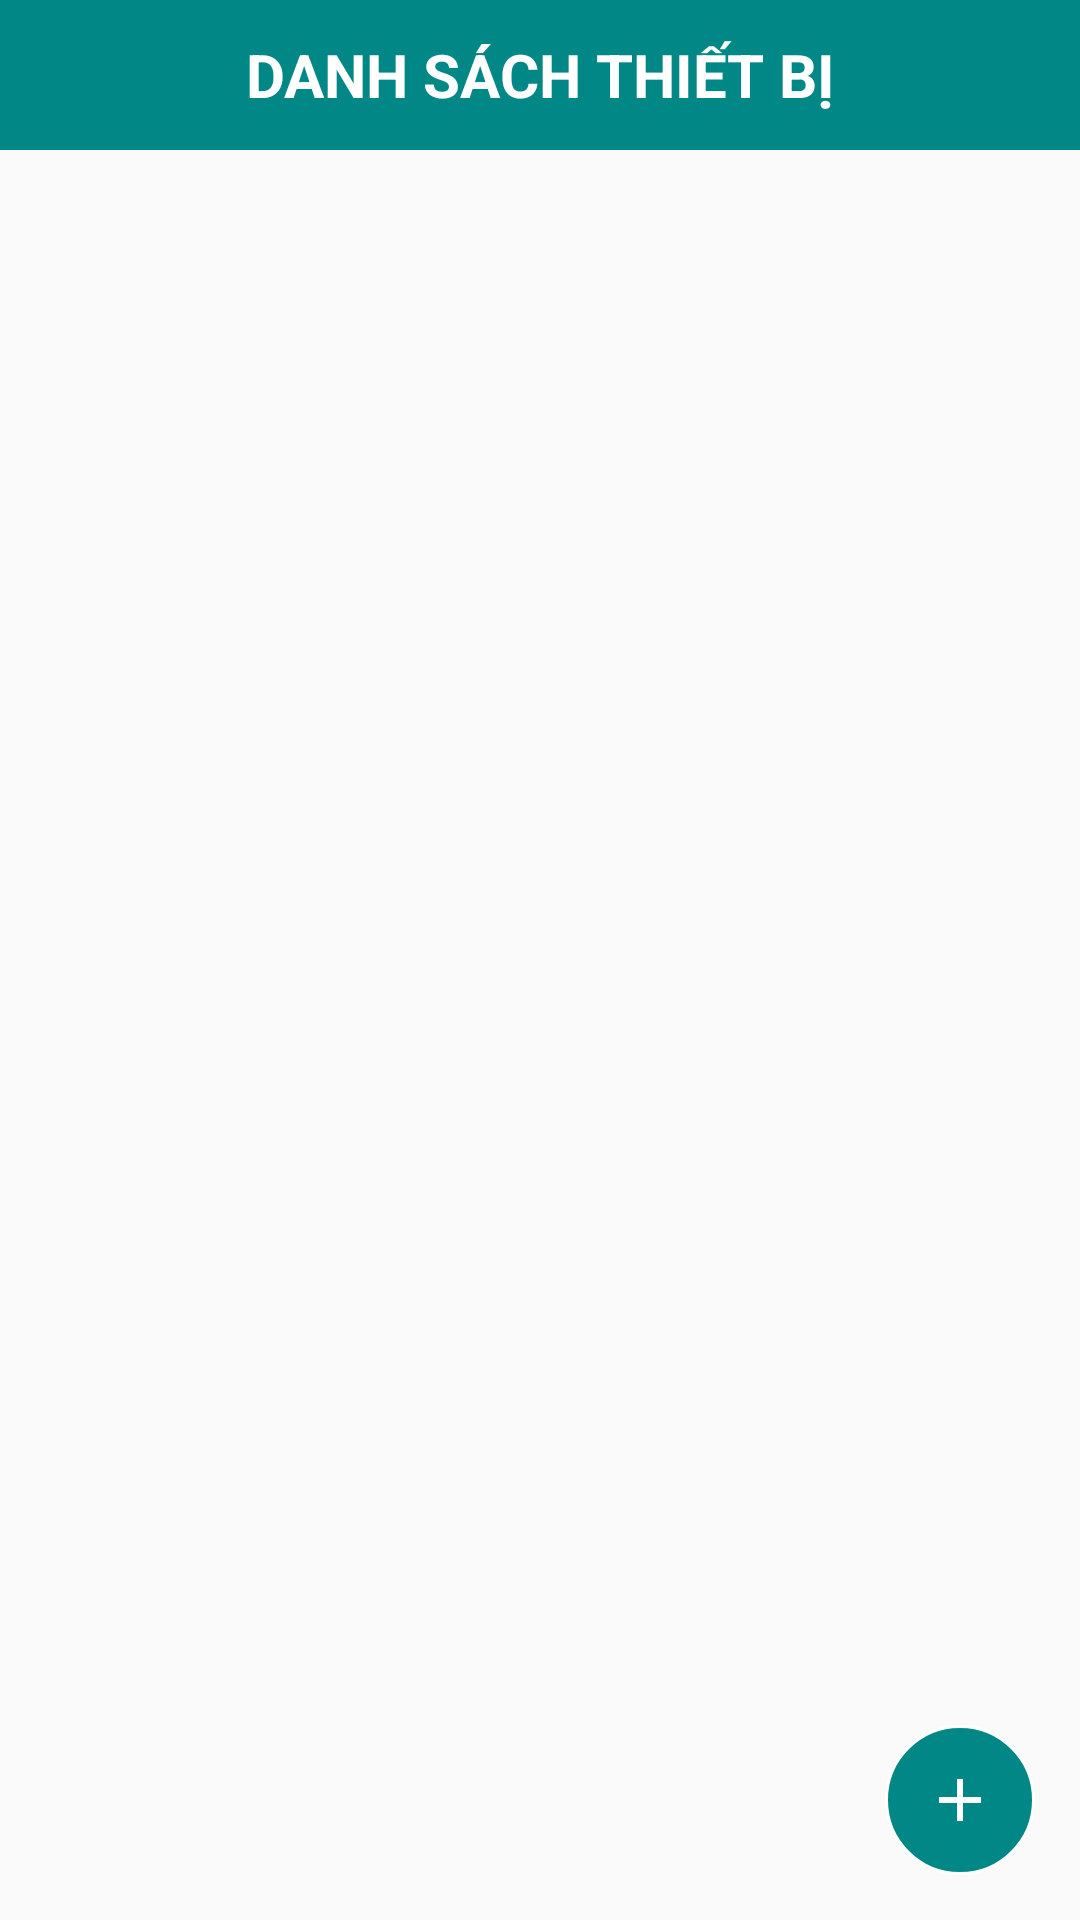

Named icons in this screenshot (1080px×1920px) and their centers, (x=x, y=y):
add: (x=960, y=1800)
